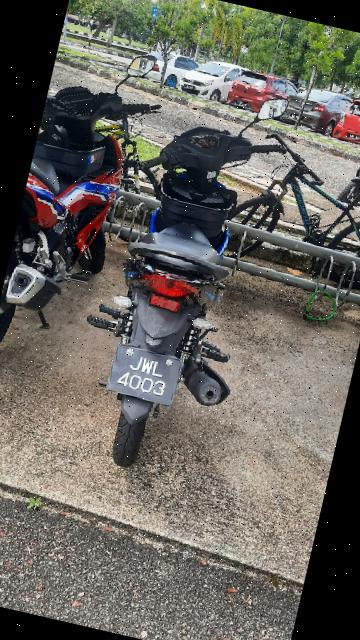License_Plate: (103, 342, 188, 415)
motorcycle: (56, 64, 303, 488)
